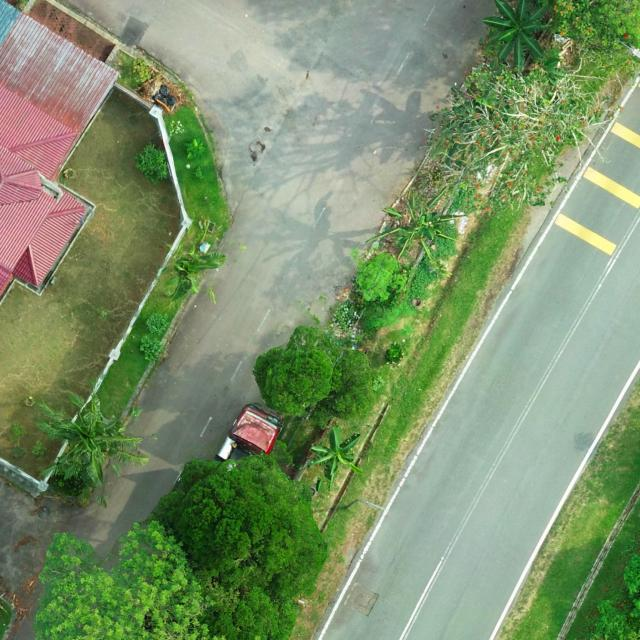Tree: (418, 46, 640, 212), (33, 519, 289, 640), (148, 455, 331, 603), (251, 324, 376, 430), (38, 388, 149, 488), (365, 184, 469, 278), (539, 0, 640, 62), (161, 218, 228, 304), (197, 584, 299, 640), (482, 0, 554, 73), (307, 425, 363, 494), (134, 142, 170, 186)
